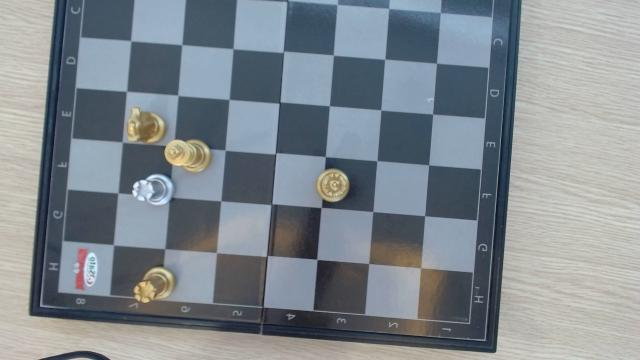black_king: (167, 139, 212, 173)
black_knight: (125, 106, 167, 144)
black_queen: (316, 168, 351, 204)
black_rook: (133, 267, 175, 306)
white_rook: (132, 174, 174, 207)
